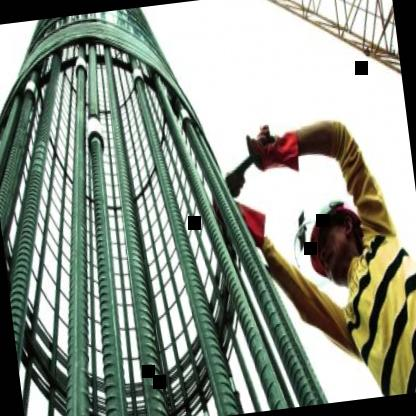helmet: (286, 153, 372, 290)
